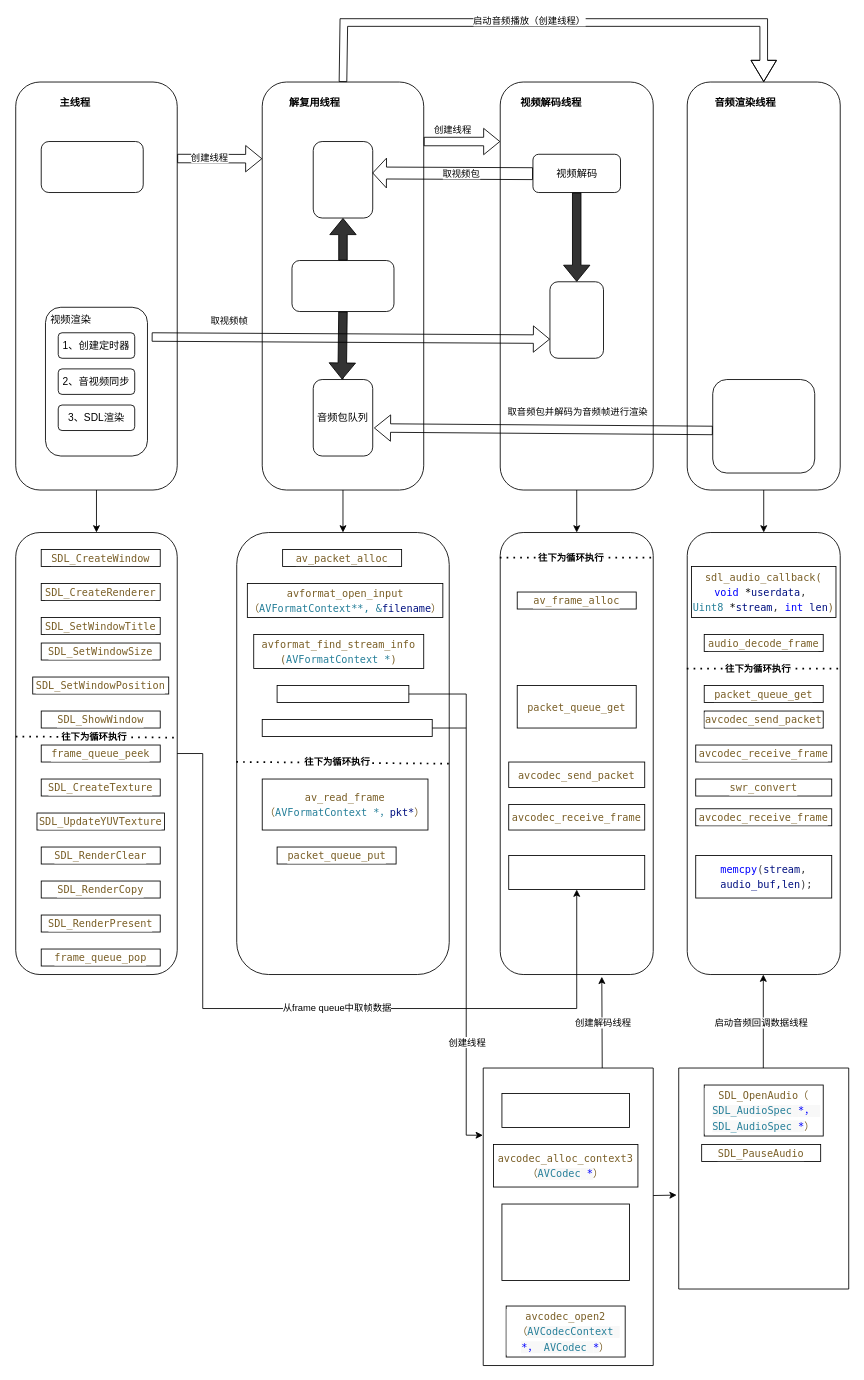
Image size: 864x1380. Some labels were removed from this diagram. The shapes that lost their labels are listed below. From the top down, each one's centre as x and y in pixels, then its label:
At point (91, 167): "输入文件".
At point (342, 179): "视频包队列".
At point (342, 286): "解复用".
At point (576, 319): "解码视频 帧队列".
At point (763, 426): "音频渲染".
At point (342, 694): "audio decode and play".
At point (346, 728): "video decode".
At point (576, 872): "queue_picture （insert frame）".
At point (565, 1110): "avcodec_find_decoder （ AVCodecID ）".
At point (565, 1242): "avcodec_parameters _to_context （ AVCodecContext *， AVCodecParameters * ）".
